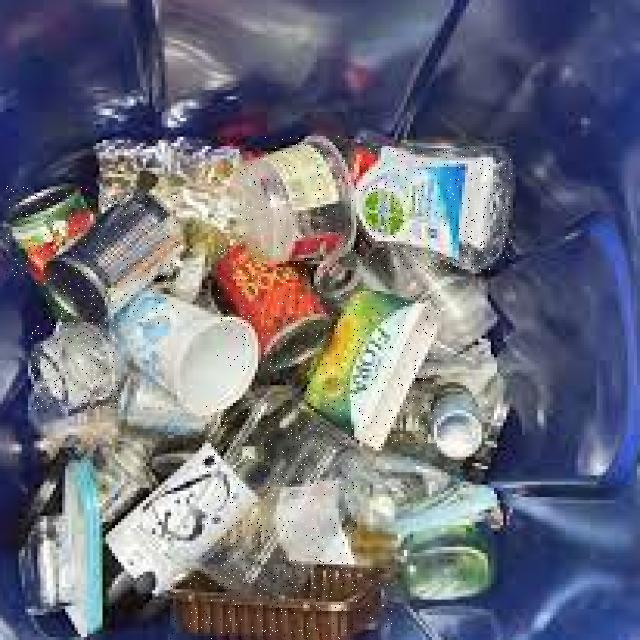metal: (47, 195, 179, 324), (218, 246, 332, 371), (6, 187, 96, 284)
plastic: (202, 401, 357, 591), (307, 292, 440, 448), (357, 149, 512, 271), (171, 568, 394, 639), (239, 136, 357, 262), (31, 323, 121, 411)
